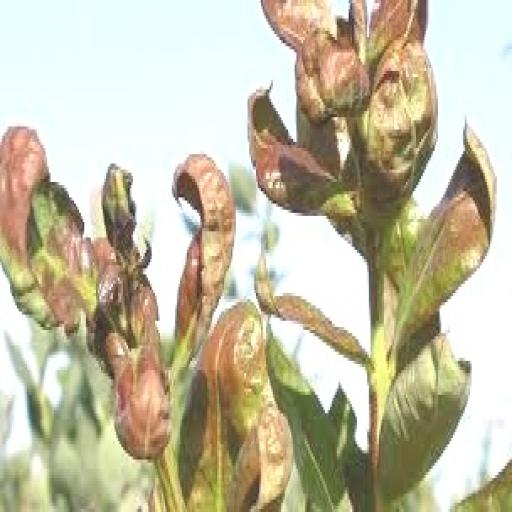thrip: (335, 126, 493, 481), (179, 299, 291, 509), (0, 126, 96, 333), (357, 40, 436, 213), (173, 154, 234, 349), (256, 262, 369, 367), (96, 163, 158, 349), (248, 89, 339, 213), (295, 28, 367, 120), (111, 345, 168, 456), (261, 0, 335, 49), (369, 0, 426, 56)
